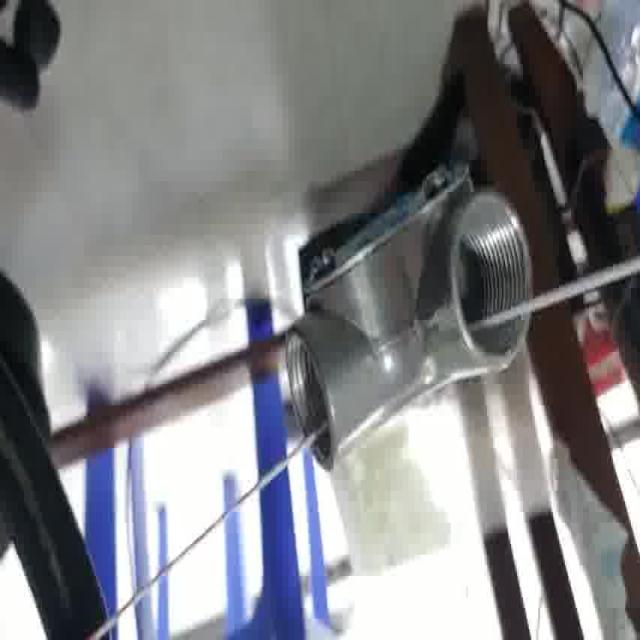Dry: (287, 163, 529, 472)
